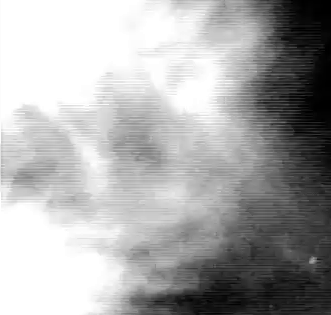Target: (309, 256, 316, 263)
